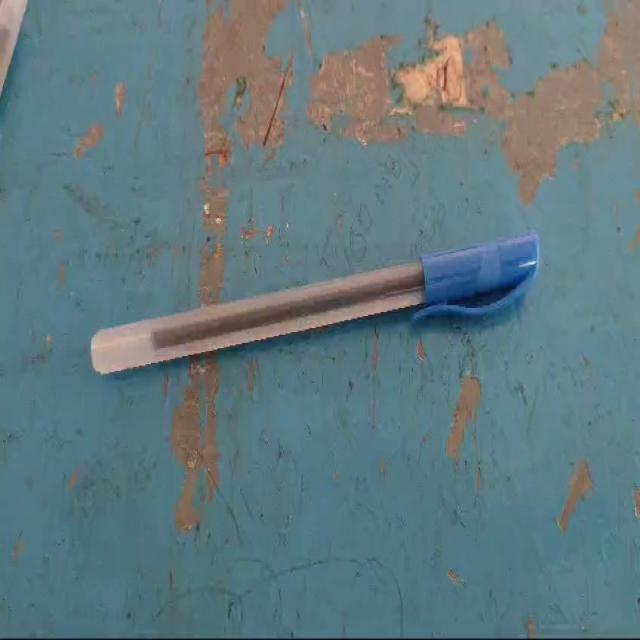pen: (72, 169, 556, 429)
